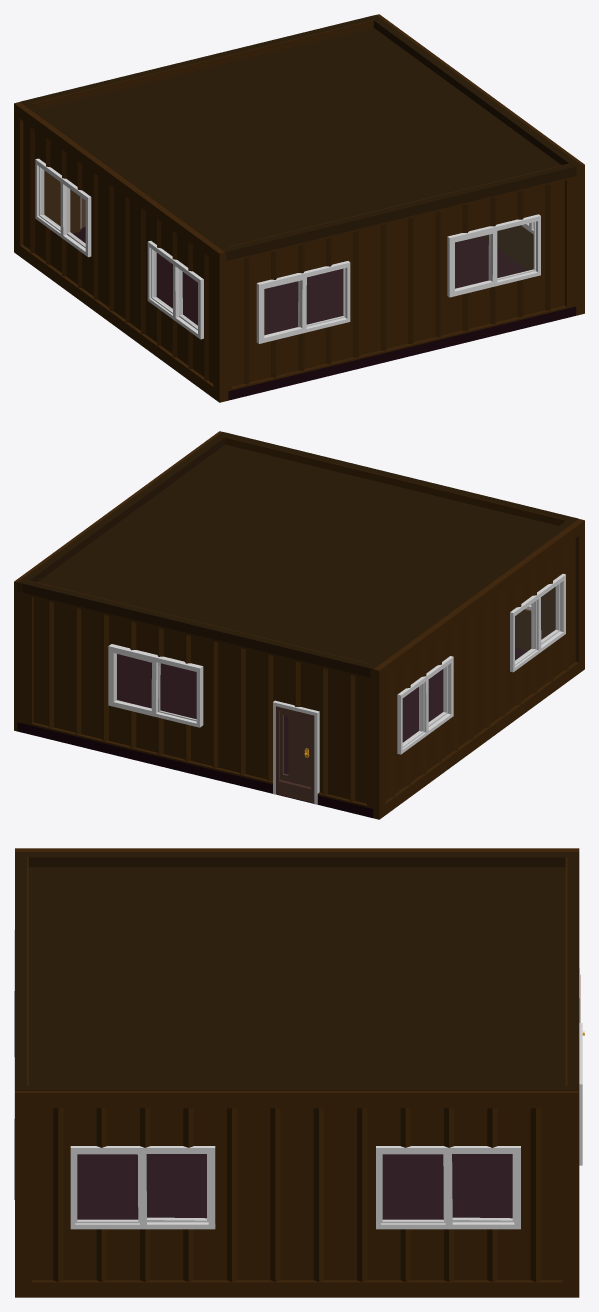
File: 3D_10x10MedDoor.fbx
3 views of the same model, one above another, from view 1: azimuth 30°, elevation 25°; view 2: azimuth 150°, elevation 25°; view 3: azimuth 270°, elevation 25° (orthographic). The views are drawn at different scales.
Visible parts, largest first — view 1: Plane.031; view 2: Plane.031, Cube.072; view 3: Plane.031.
Part boxes in pixels (x1,y1,x2,y2): Plane.031: [14, 14, 584, 402]; Plane.031: [14, 431, 584, 819]; Cube.072: [276, 706, 314, 803]; Plane.031: [14, 848, 582, 1297].
Bounding box in the file's own units: 1026 × 400 × 1012.
